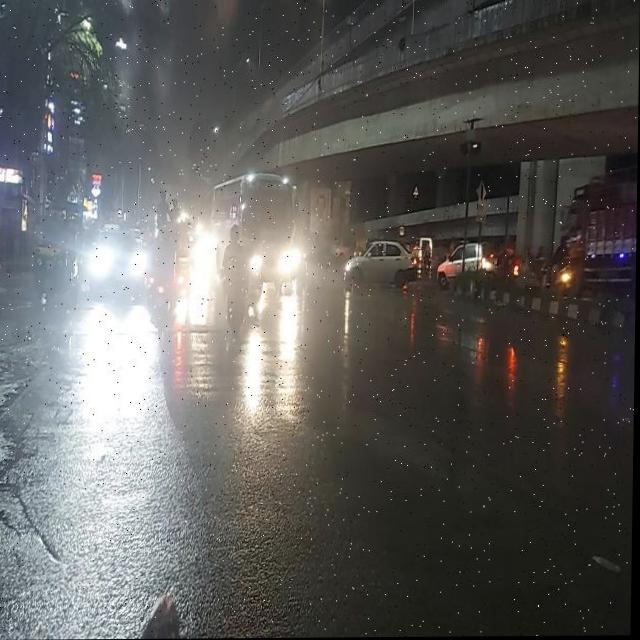bus: (537, 192, 640, 314), (206, 176, 304, 282)
car: (435, 233, 530, 307), (87, 215, 151, 304), (340, 224, 422, 291)
motorcycle: (207, 232, 265, 346), (146, 221, 184, 340)
